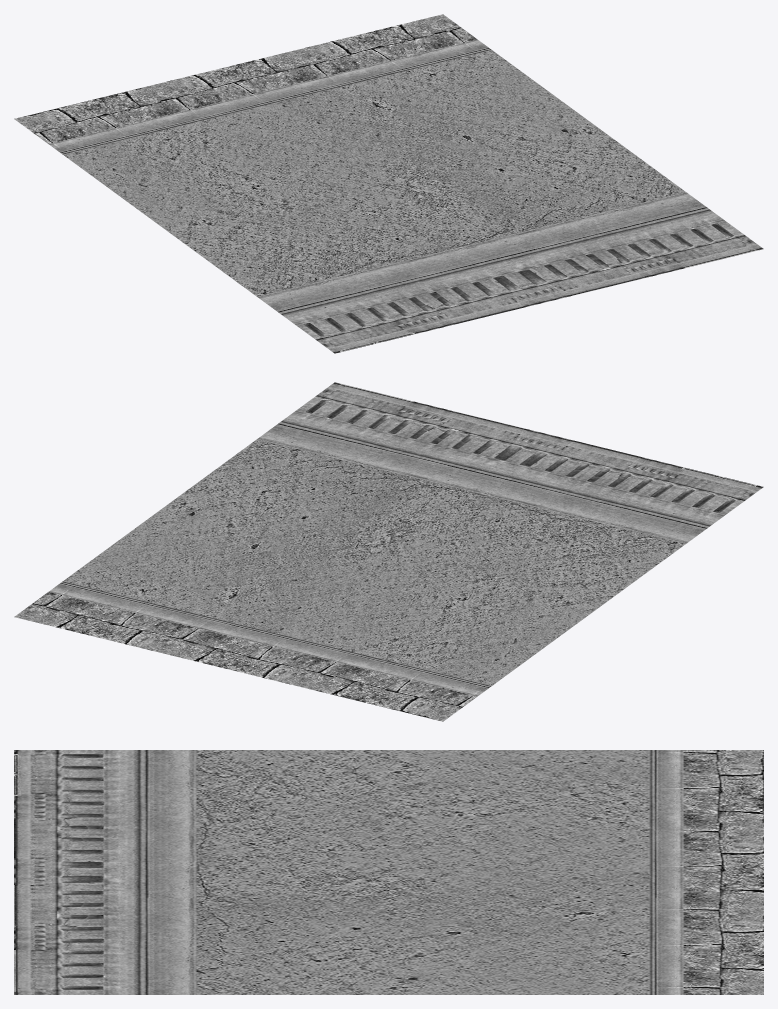
File: Floor001.fbx
3 renders of one model, top to bottom at view 1: azimuth 30°, elevation 25°; view 2: azimuth 150°, elevation 25°; view 3: azimuth 270°, elevation 25°, orthographic. The views are drawn at different scales.
Parts seen in each view (by area): view 1: pPlane1; view 2: pPlane1; view 3: pPlane1.
Boxes of the visible parts, x1,y1,x2,y2 form: pPlane1: (14, 14, 763, 353); pPlane1: (14, 382, 763, 721); pPlane1: (14, 750, 763, 994).
Size of the model in its own units: 2.06 by 5.92e-16 by 2.67.
